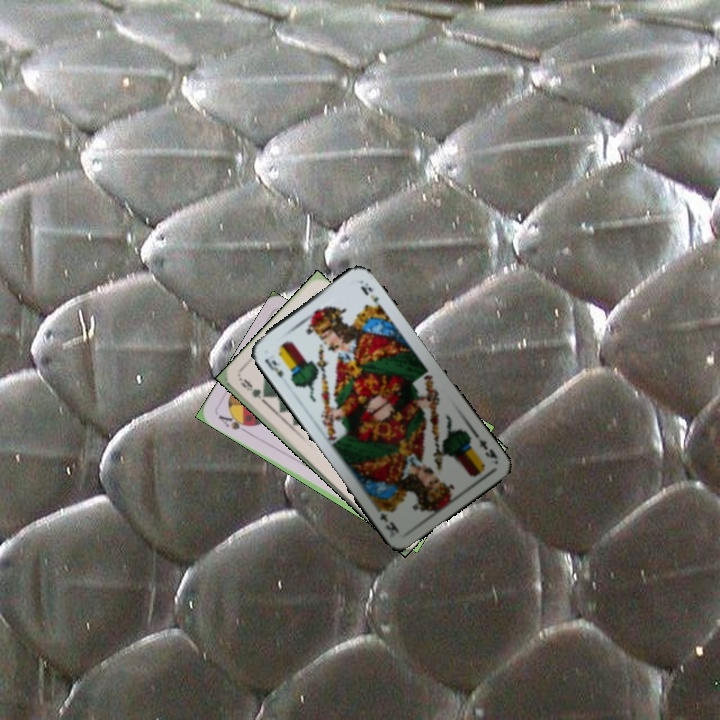EK: (469, 428, 500, 461), (261, 355, 286, 380)
G9: (235, 374, 269, 406)
SA: (214, 410, 253, 436)
